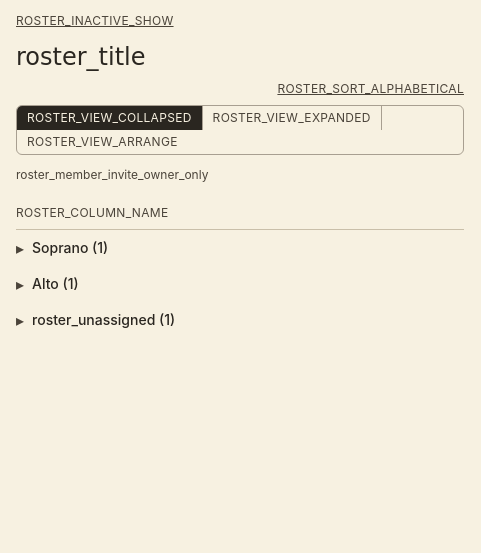
/roster — section-control owner gate (#468, integration: actual page route) › a row WITHOUT the reader in ownerIds renders NO section control even with dbEditRight 'editor'
The width and height of the screenshot is (481, 553).
Expected: the element with test id "roster-groups" is shown, [16,230,464,338]
Click the button with test id "roster-view-chip-expanded" at (292, 118), box [203,106,382,130]
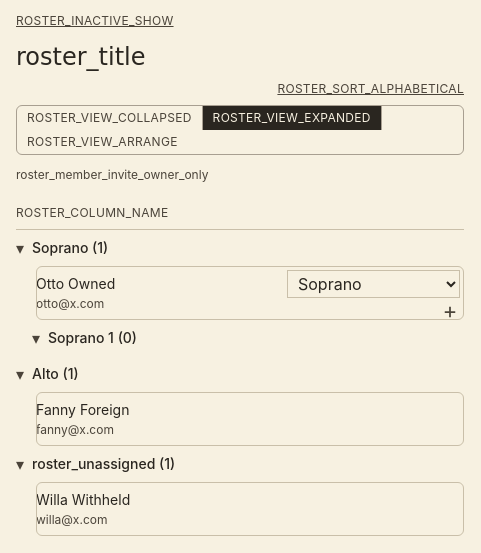
Expected: the list item with test id "roster-row-" is shown, [36,266,464,320]
